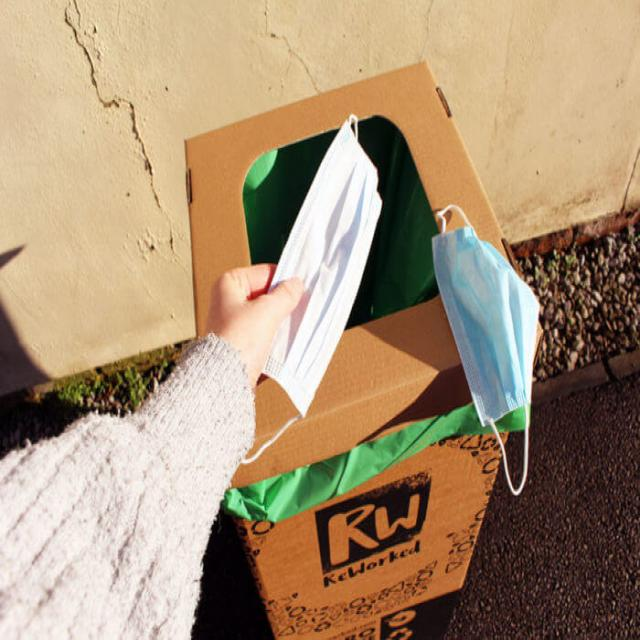non-organic waste: (225, 122, 390, 478), (429, 205, 548, 498)
